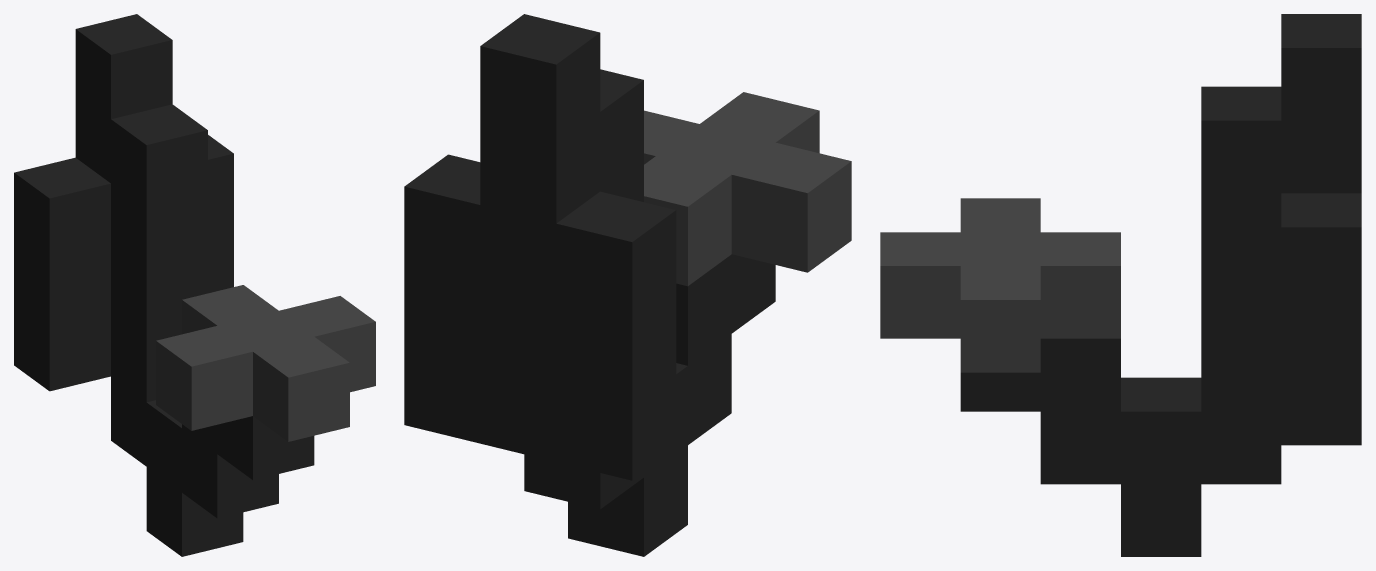
File: Lamp Holder-1.obj
3 renders of one model, left to right at view 1: azimuth 30°, elevation 25°; view 2: azimuth 150°, elevation 25°; view 3: azimuth 270°, elevation 25°, orthographic. The views are drawn at different scales.
Bounding box in the file's own units: 0.3 × 0.7 × 0.6.
1 material, 1 textured.
